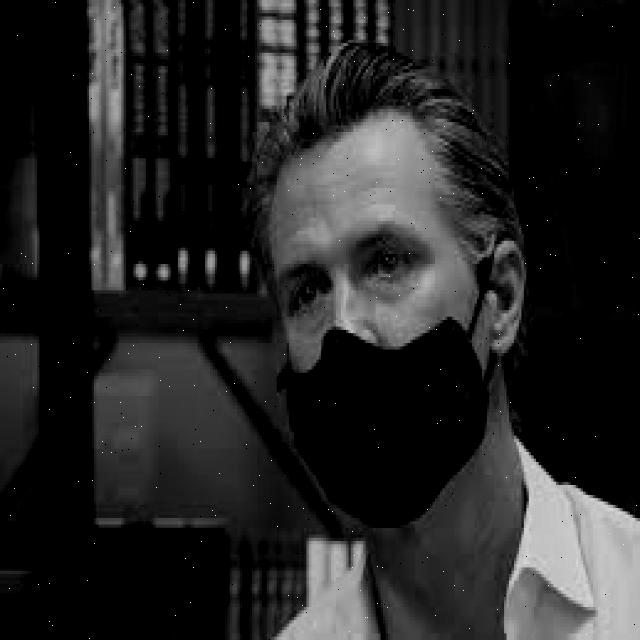fake: (278, 318, 497, 530)
real: (261, 117, 503, 536)
